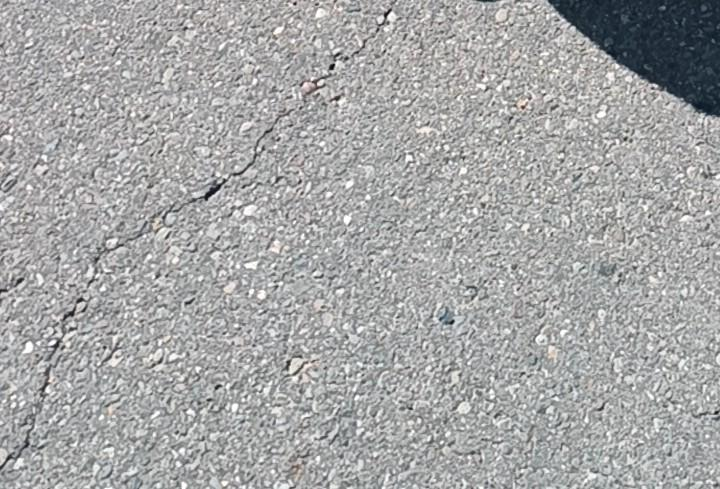GRIETA: (172, 108, 296, 213), (86, 210, 169, 291), (0, 364, 53, 471), (342, 7, 393, 61)
